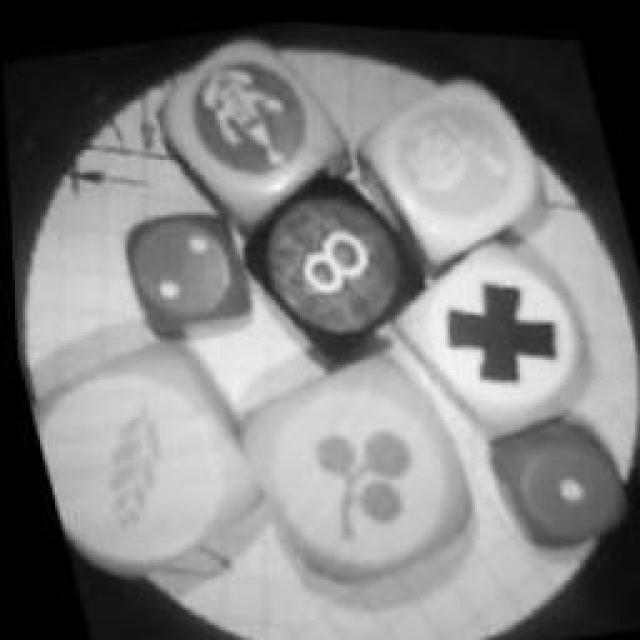dice_1: (465, 384, 640, 556)
dice_2: (104, 190, 266, 350)
